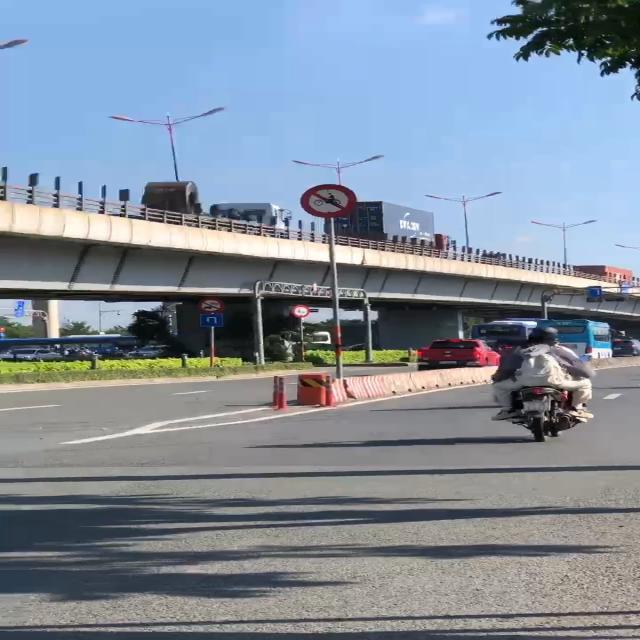Bien bao cam xe may: (297, 183, 364, 220)
